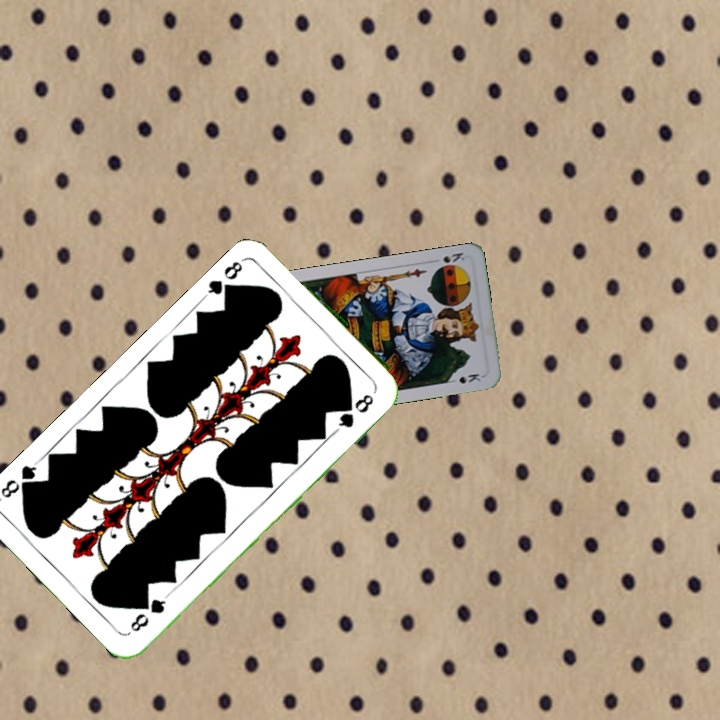G8: (201, 253, 249, 301), (126, 590, 172, 635)
SK: (439, 248, 468, 265)
